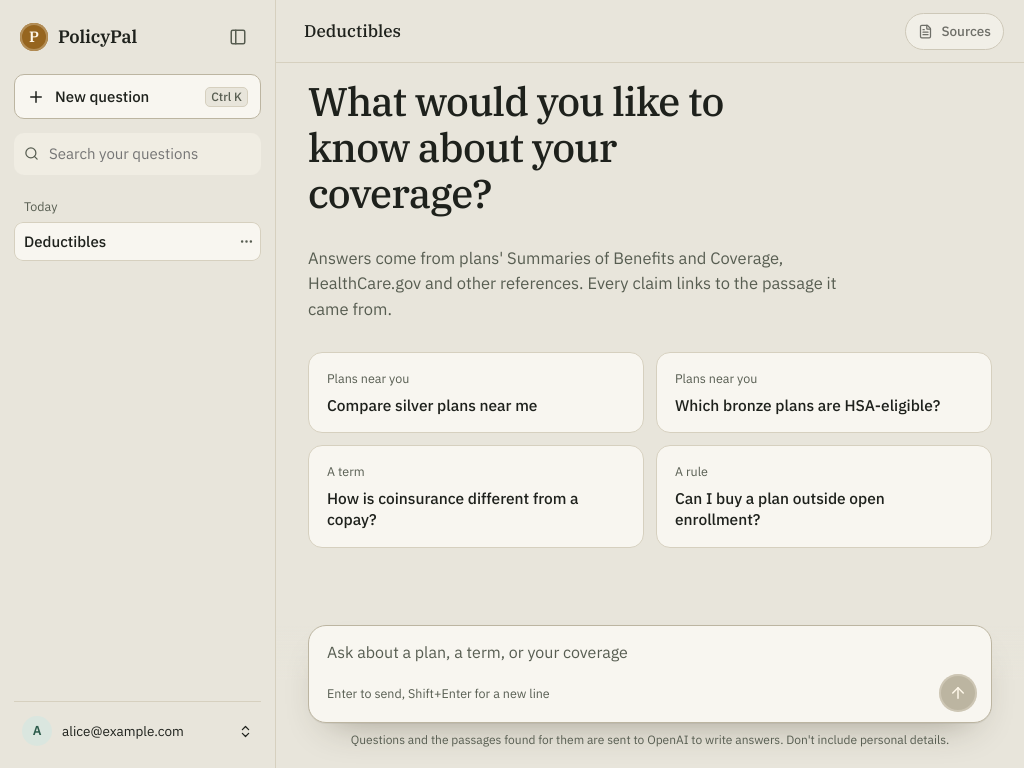
Test: ChatPage › a starter fills the composer
(page scrolled)
Click the button "A term How is coinsurance different from a copay?": (476,497) left=308, top=445, right=644, bottom=548
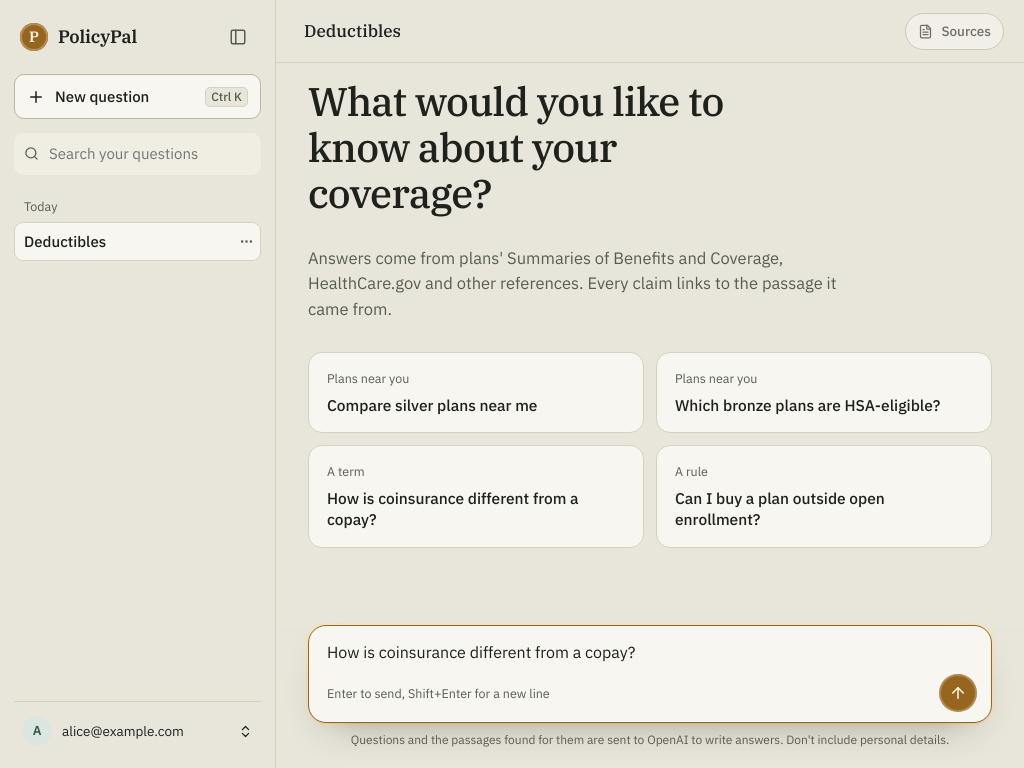
Expected: the text box named "Your question" holds "How is coinsurance different from a copay?", left=327, top=640, right=977, bottom=666
